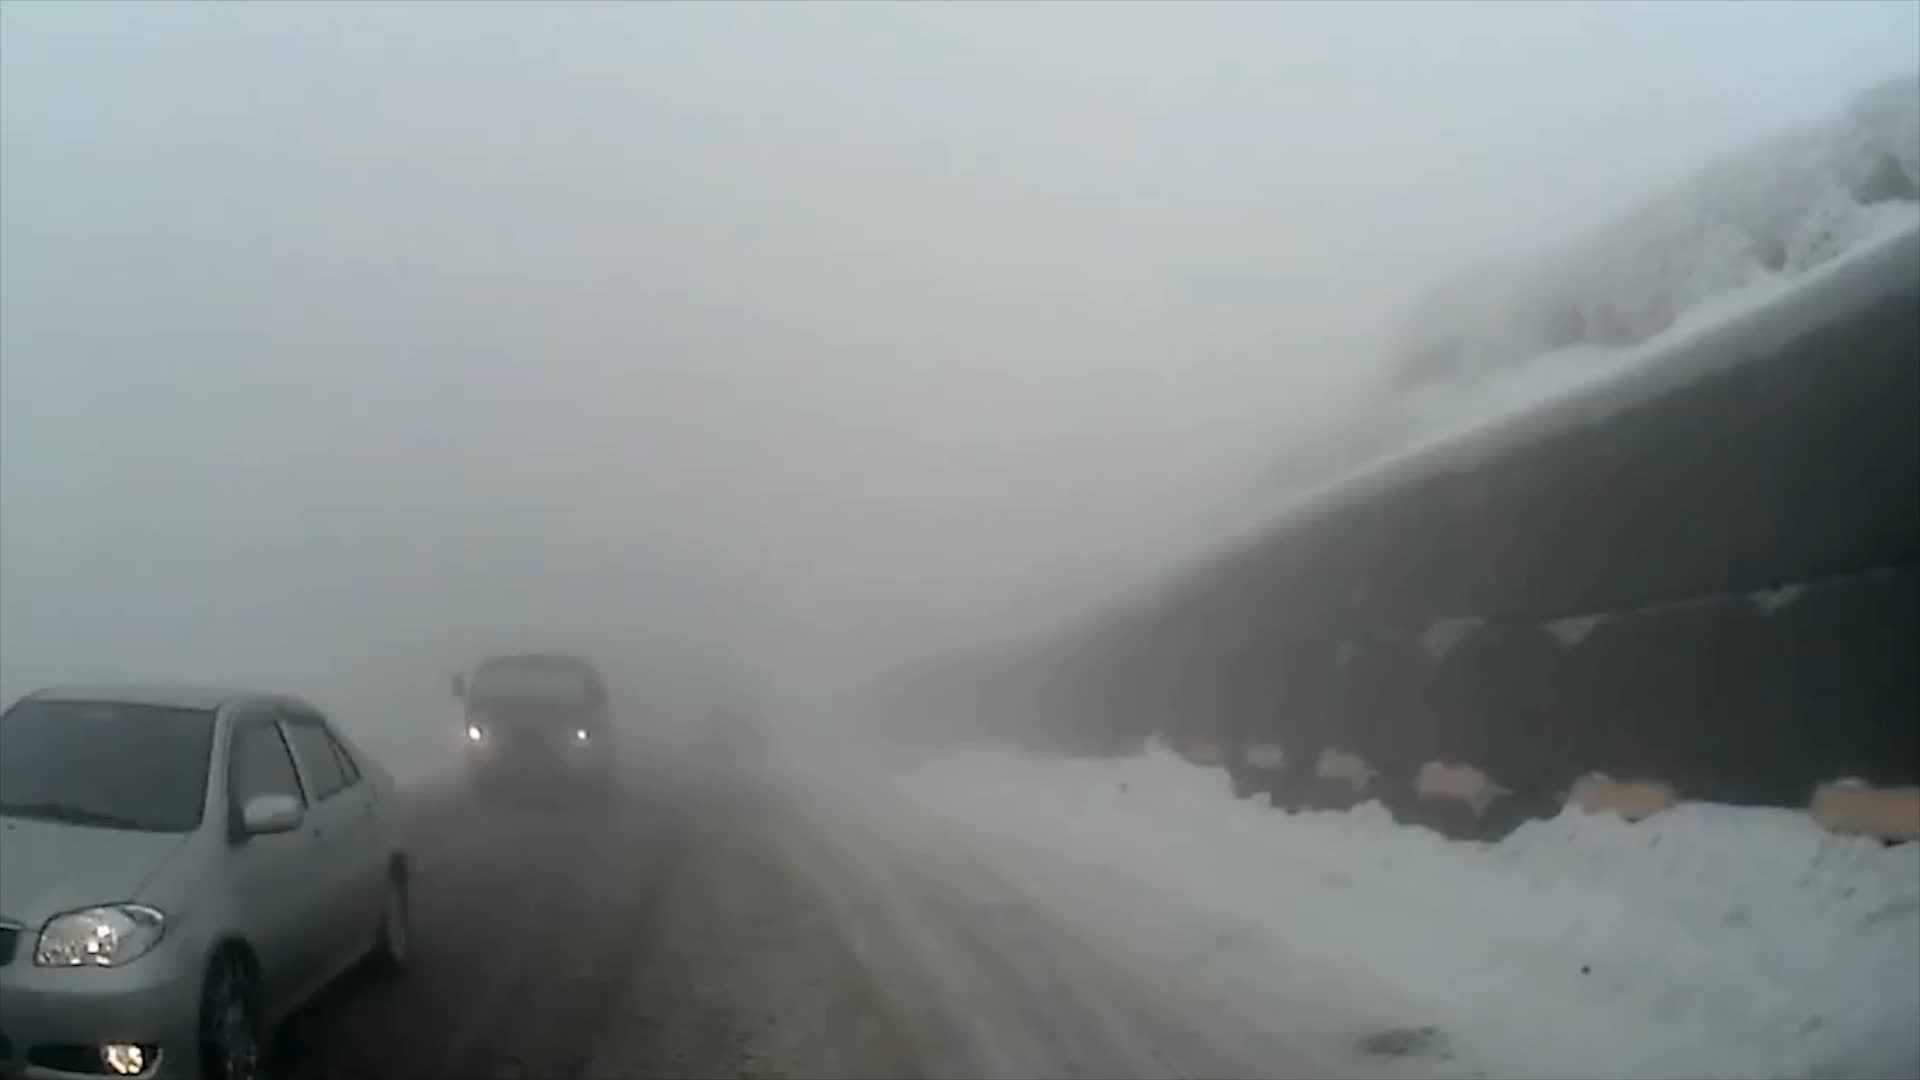vehicle: (0, 678, 418, 1080), (448, 651, 617, 799)
